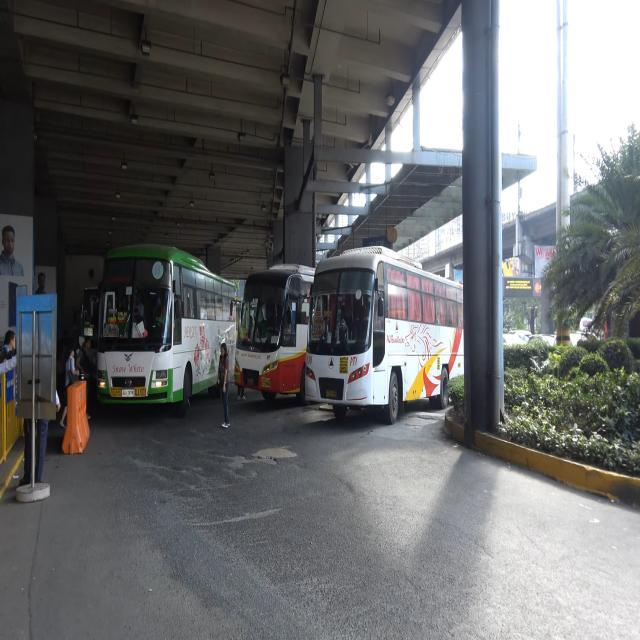bus: (306, 246, 464, 422), (94, 240, 238, 416), (235, 261, 316, 408)
